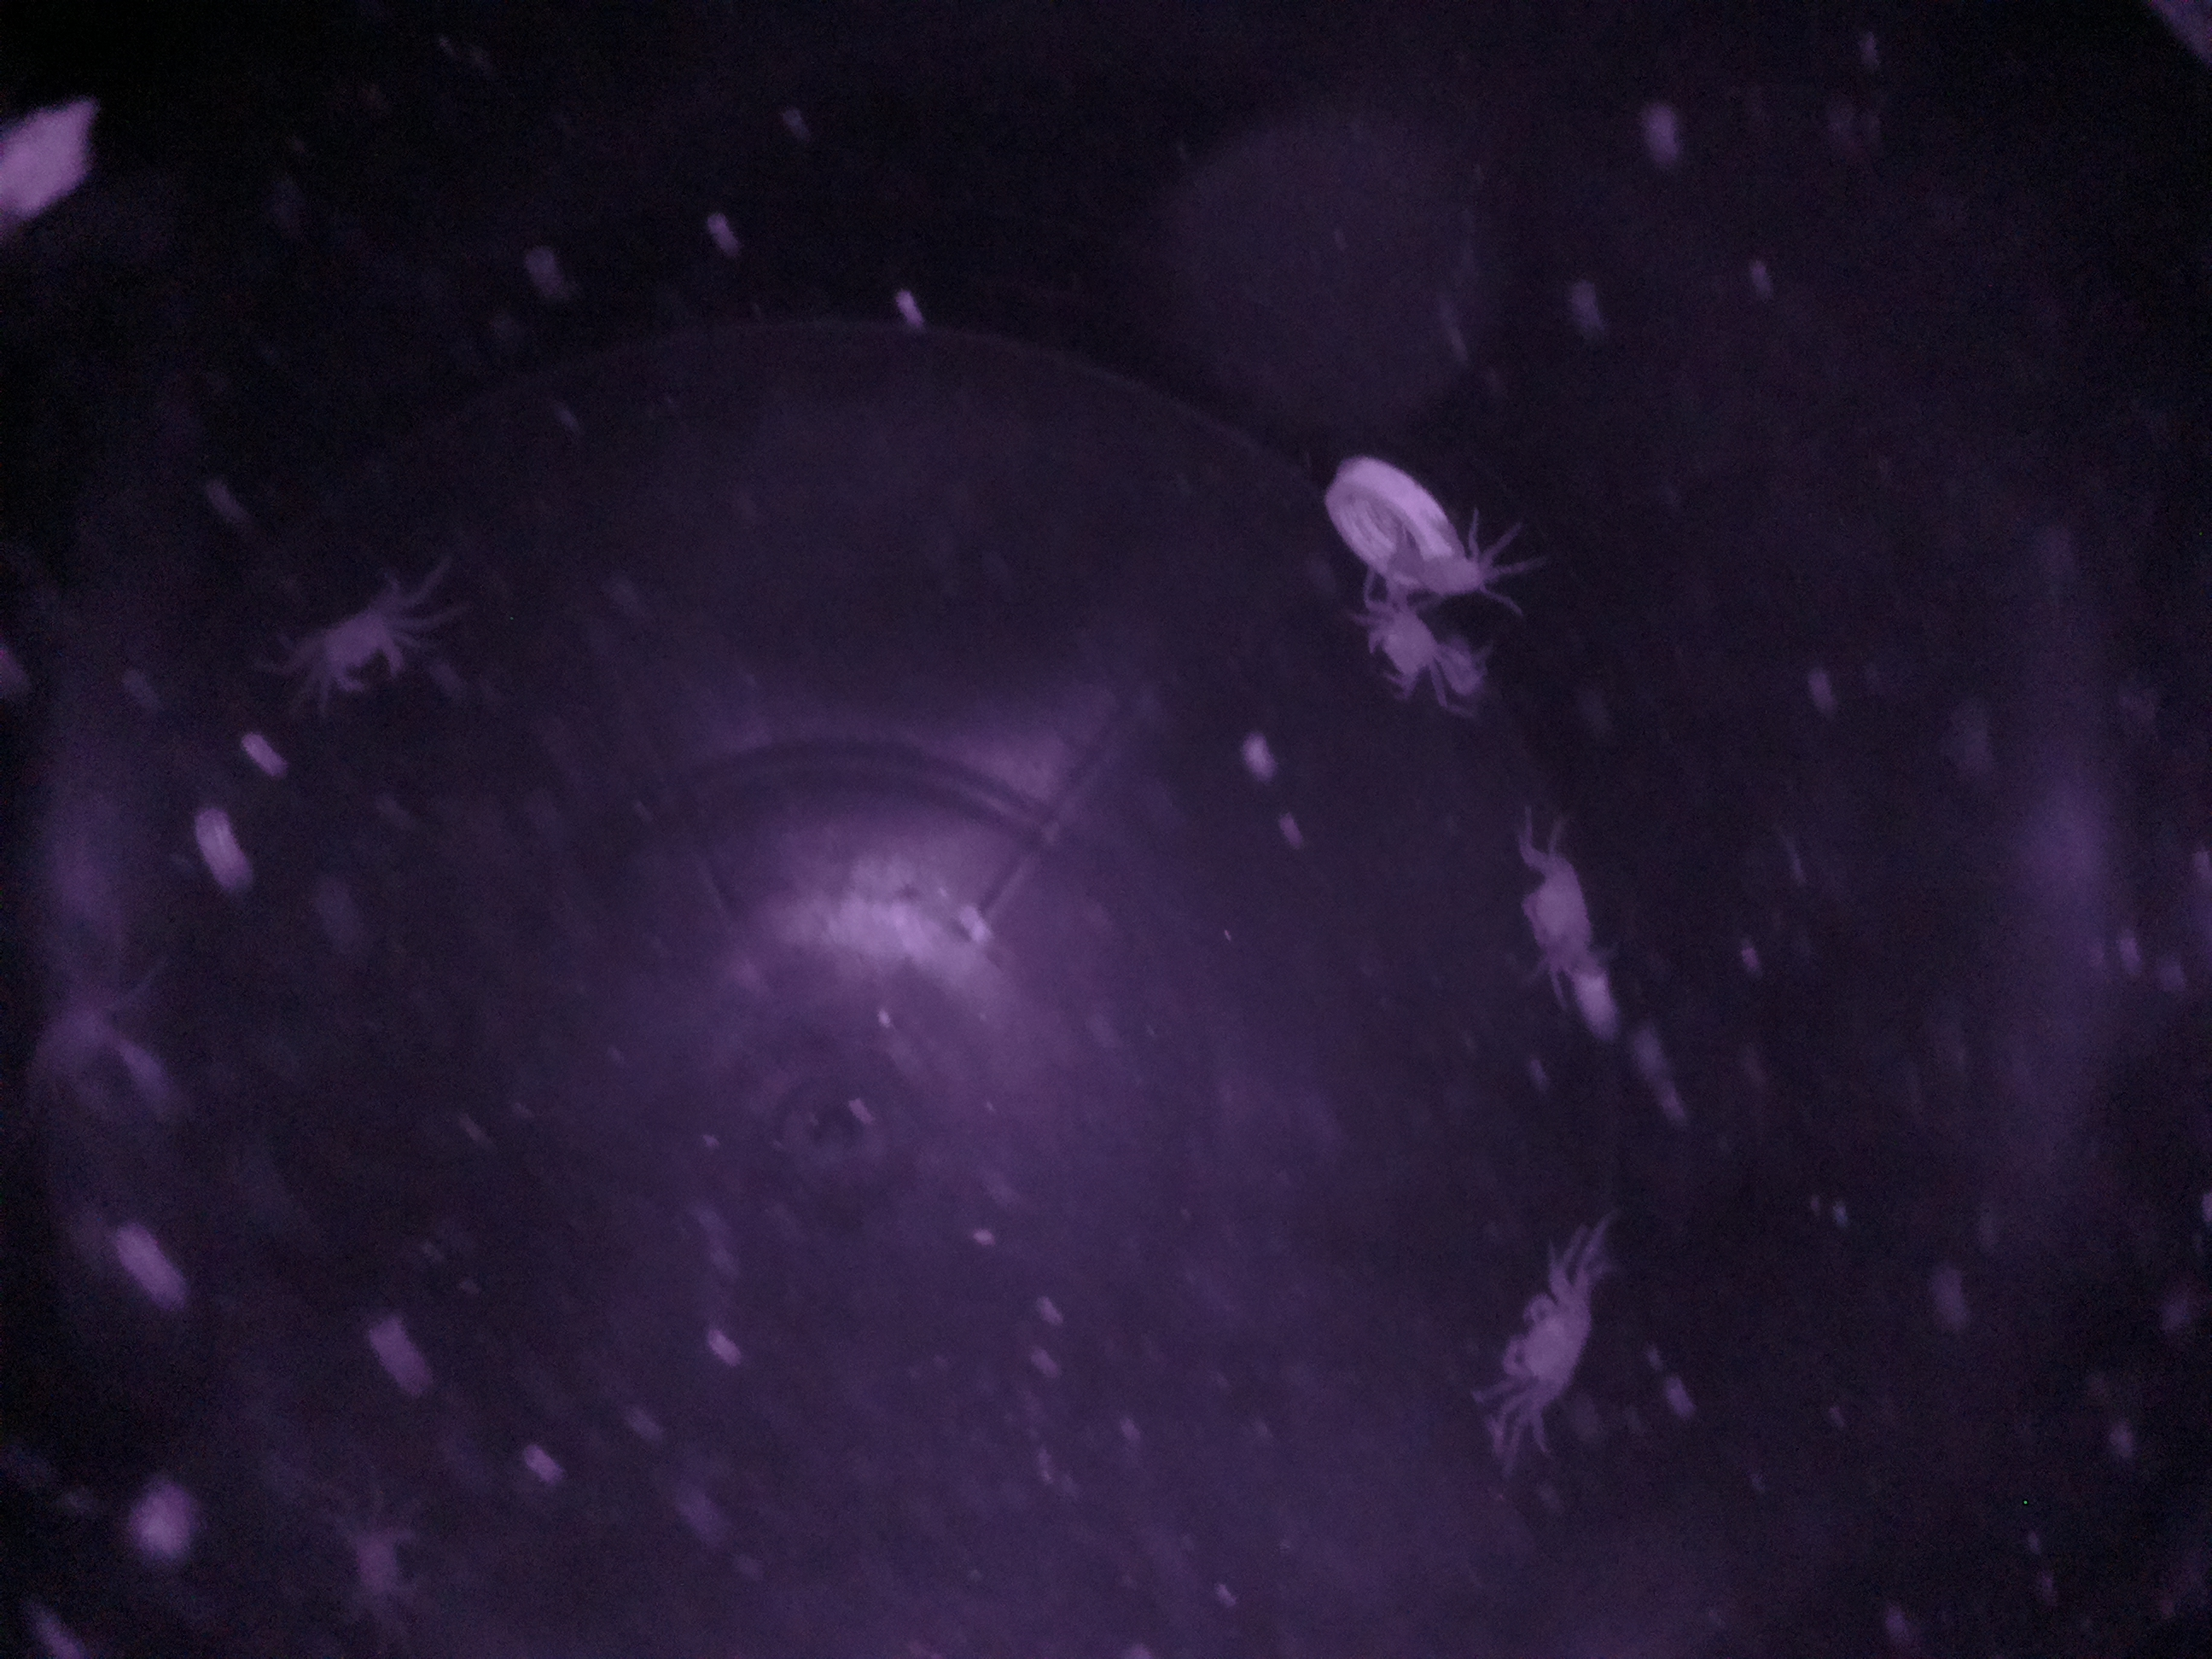Crab: (1477, 1265, 1627, 1431), (1494, 840, 1623, 1000), (1343, 584, 1463, 709)
